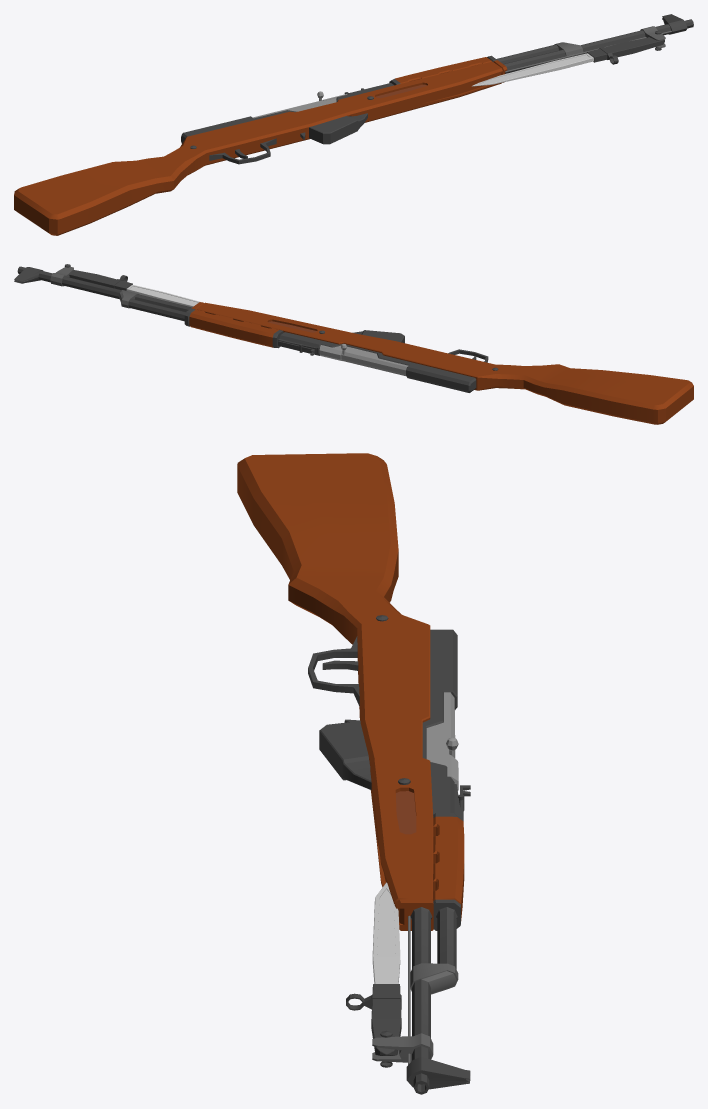
Rendered from Eastern_carbine.fbx.
The picture shows the model from 3 angles, top to bottom: view 1: azimuth 30°, elevation 25°; view 2: azimuth 150°, elevation 25°; view 3: azimuth 270°, elevation 25°; orthographic projection. The views are drawn at different scales.
Parts seen in each view (by area): view 1: Eastern_carbine; view 2: Eastern_carbine; view 3: Eastern_carbine.
Part boxes in pixels (x1,y1,x2,y2): Eastern_carbine: [14, 14, 693, 235]; Eastern_carbine: [14, 264, 693, 424]; Eastern_carbine: [237, 453, 470, 1094].
Bounding box in the file's own units: 46.27 × 1.6 × 7.39.
